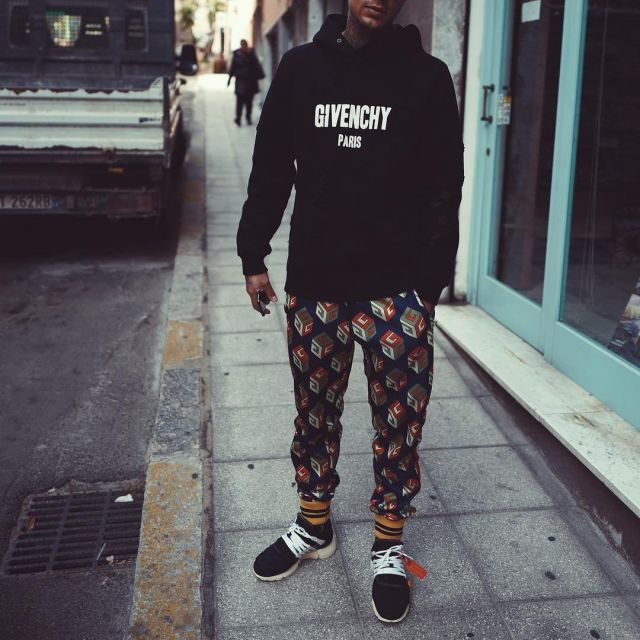Nike x OFF--WHITE Air Presto OG: (247, 506, 349, 589), (366, 527, 428, 634)
